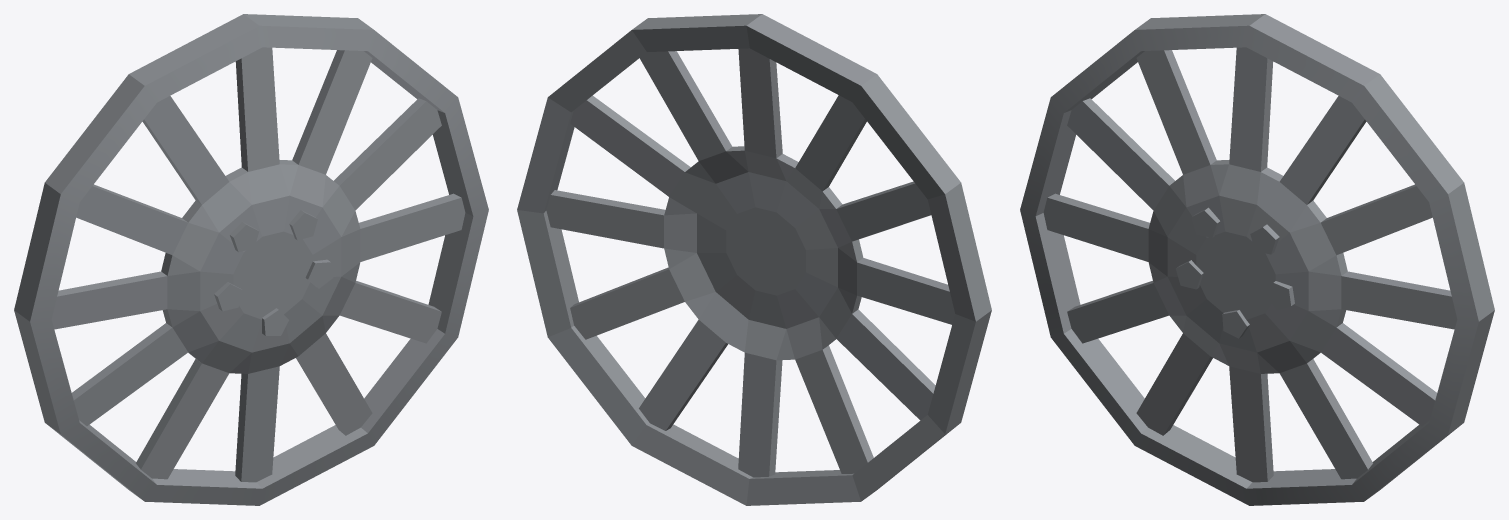
The model's file is SM_Prop_HubCap_01.fbx.
3 views of the same model, side by side, from view 1: azimuth 30°, elevation 25°; view 2: azimuth 150°, elevation 25°; view 3: azimuth 330°, elevation 25° (orthographic).
Parts seen in each view (by area): view 1: SM_Prop_HubCap_01; view 2: SM_Prop_HubCap_01; view 3: SM_Prop_HubCap_01.
Boxes of the visible parts, x1,y1,x2,y2 form: SM_Prop_HubCap_01: [14, 14, 488, 505]; SM_Prop_HubCap_01: [517, 14, 991, 505]; SM_Prop_HubCap_01: [1020, 14, 1494, 505].
Size of the model in its own units: 48.96 by 48.96 by 5.93.
